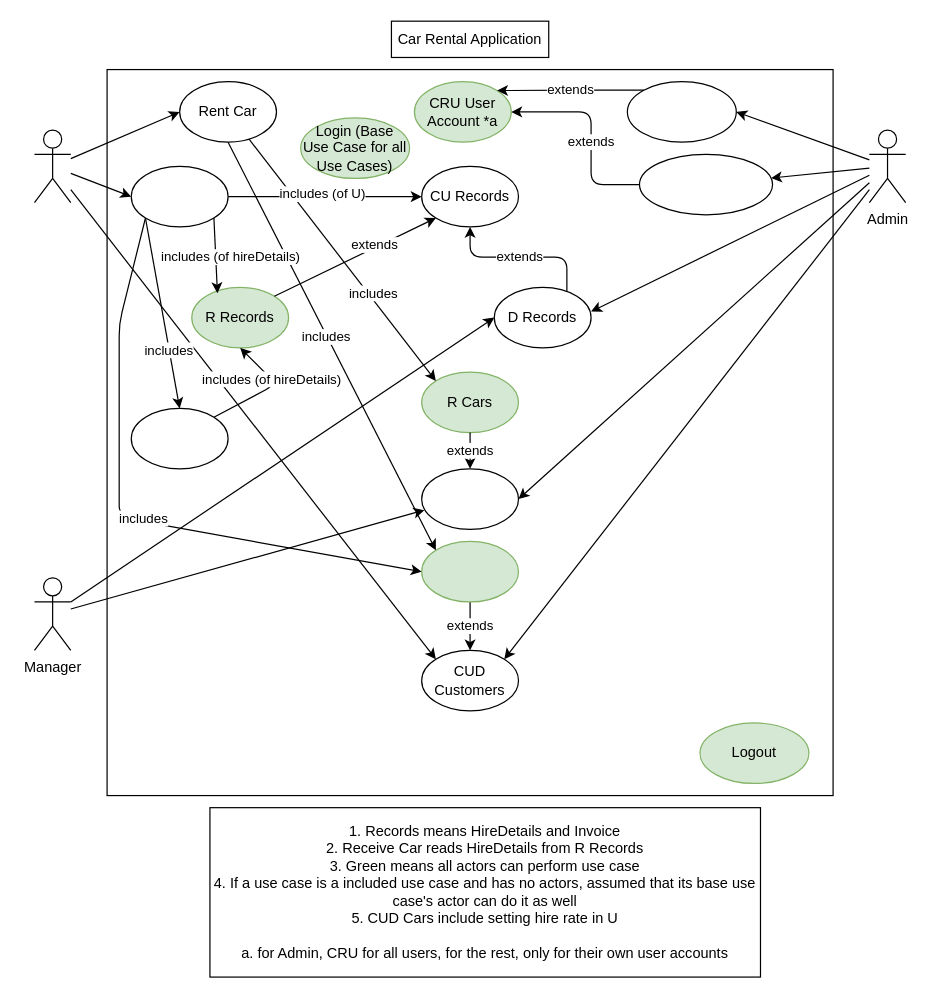
The diagram is 929 pixels wide and 998 high, and some of its shapes have lost their labels. Each missing label, with the centre of its shape:
CUD Cars: [469,498]
D, Suspend User Account: [681,111]
Employee: [52,166]
Grant/Revoke Roles to all Users: [705,184]
Process Invoice (C Records): [179,438]
R Customers: [469,571]
Receive Car: [179,196]
